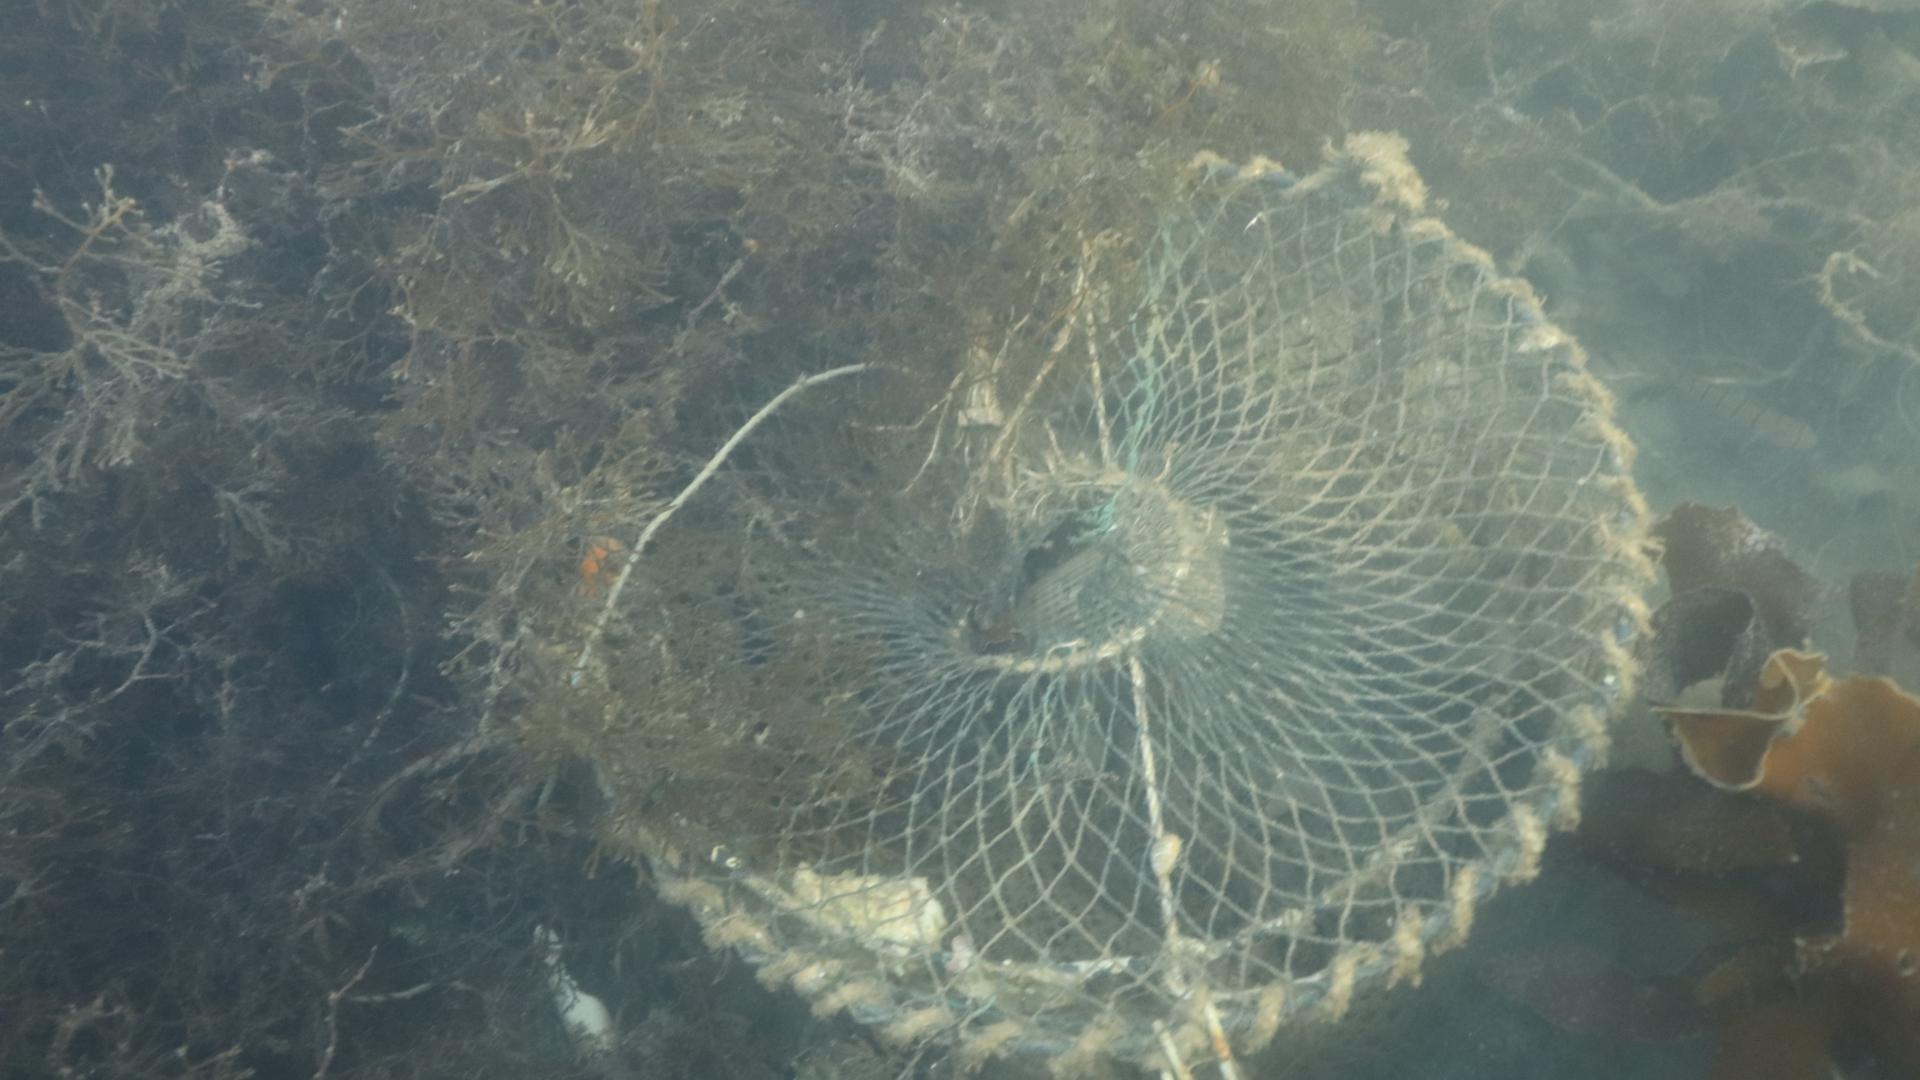circular fish trap: (558, 152, 1663, 1080)
